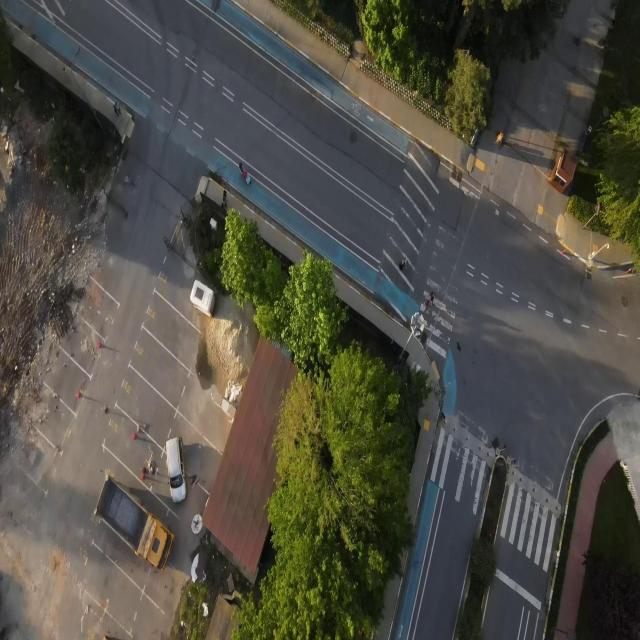p3rson: (399, 257, 408, 273), (238, 161, 245, 176), (430, 290, 436, 307), (115, 102, 122, 115), (112, 104, 119, 117)
